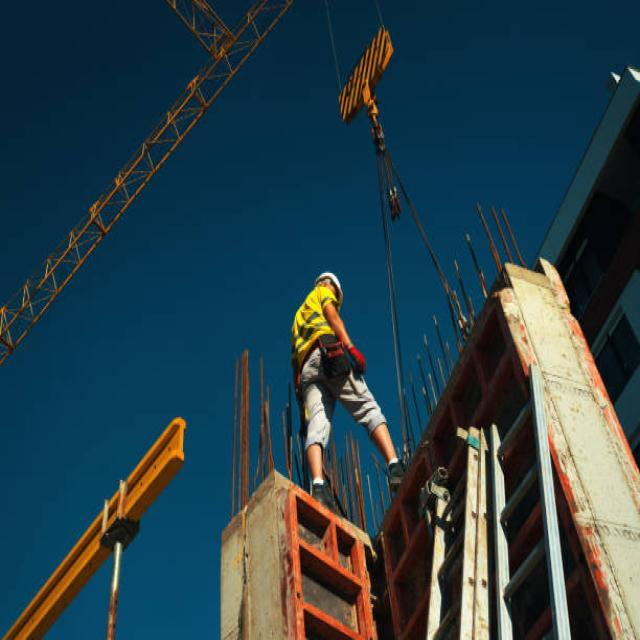Gloves: (346, 337, 371, 382)
helmet: (313, 268, 345, 298)
person: (289, 257, 411, 524)
